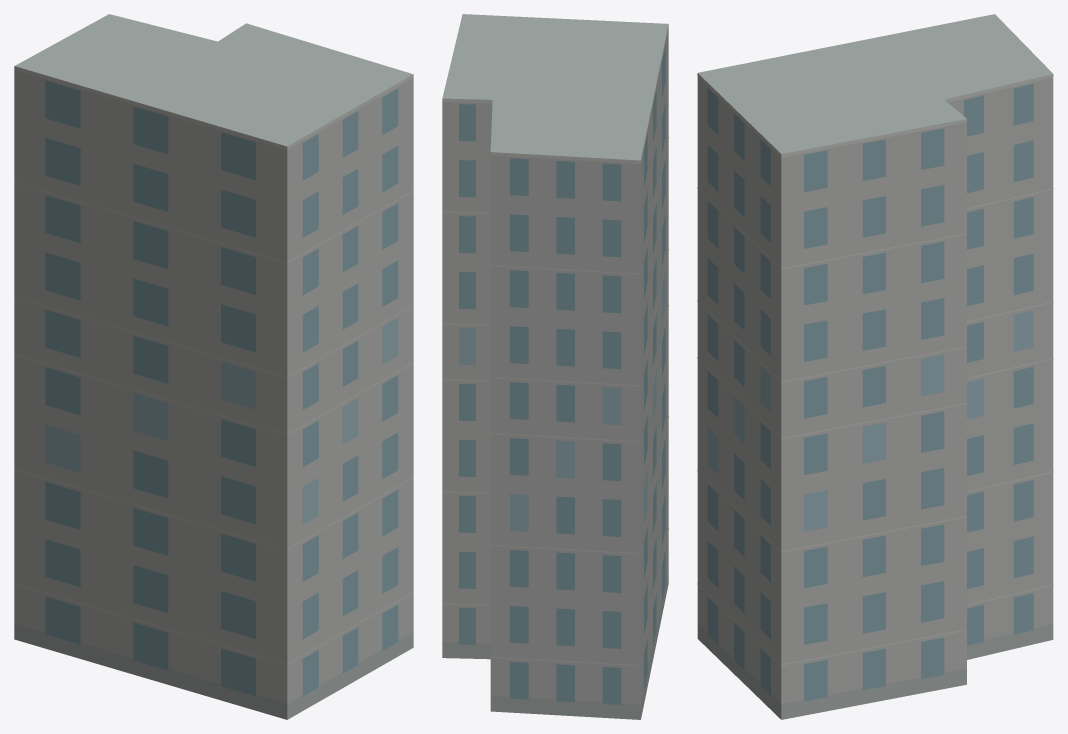
Rendered from survey-upis-32484987.glb.
3 views of the same model, side by side, from view 1: azimuth 30°, elevation 25°; view 2: azimuth 150°, elevation 25°; view 3: azimuth 270°, elevation 25° (orthographic). The views are drawn at different scales.
Visible parts, largest first — view 1: survey-upis-32484987.tmp; view 2: survey-upis-32484987.tmp; view 3: survey-upis-32484987.tmp.
Boxes of the visible parts, <box> form: survey-upis-32484987.tmp: <box>14,14,413,719</box>; survey-upis-32484987.tmp: <box>442,14,668,719</box>; survey-upis-32484987.tmp: <box>697,14,1053,719</box>.
Bounding box in the file's own units: 20.68 × 38.89 × 22.19.
